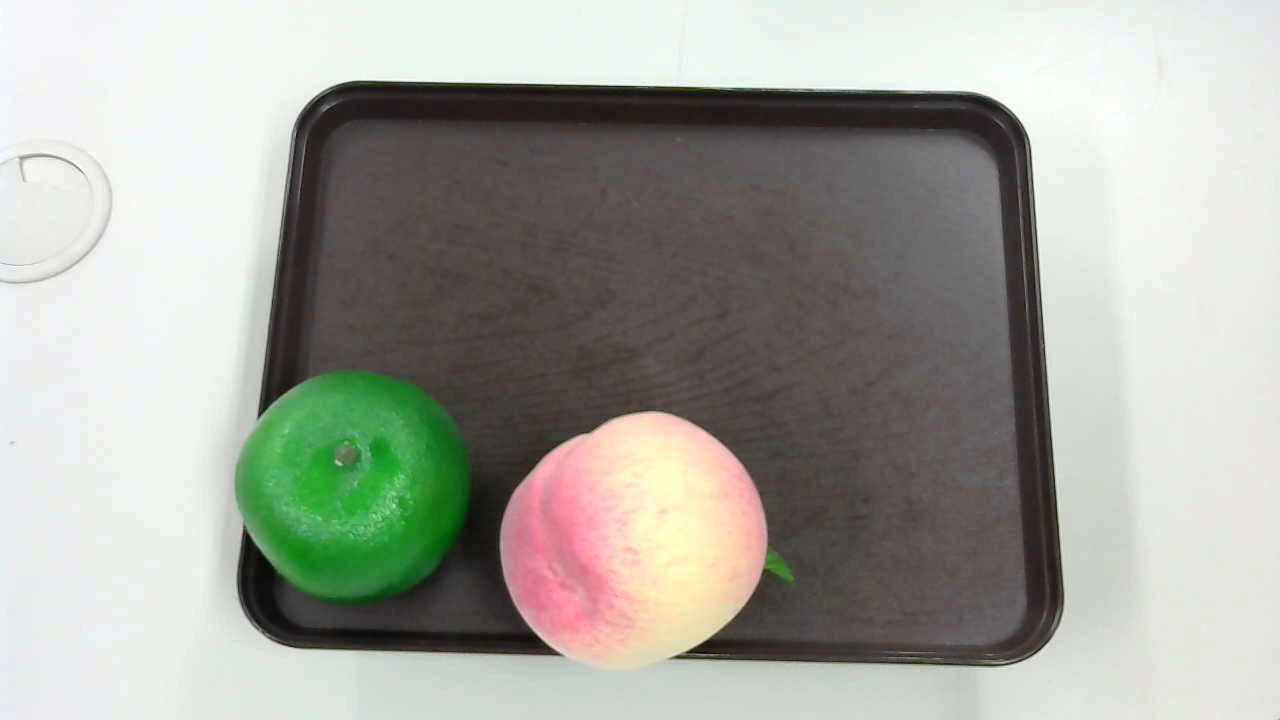green orange: (228, 369, 479, 595)
peach: (491, 411, 796, 669)
